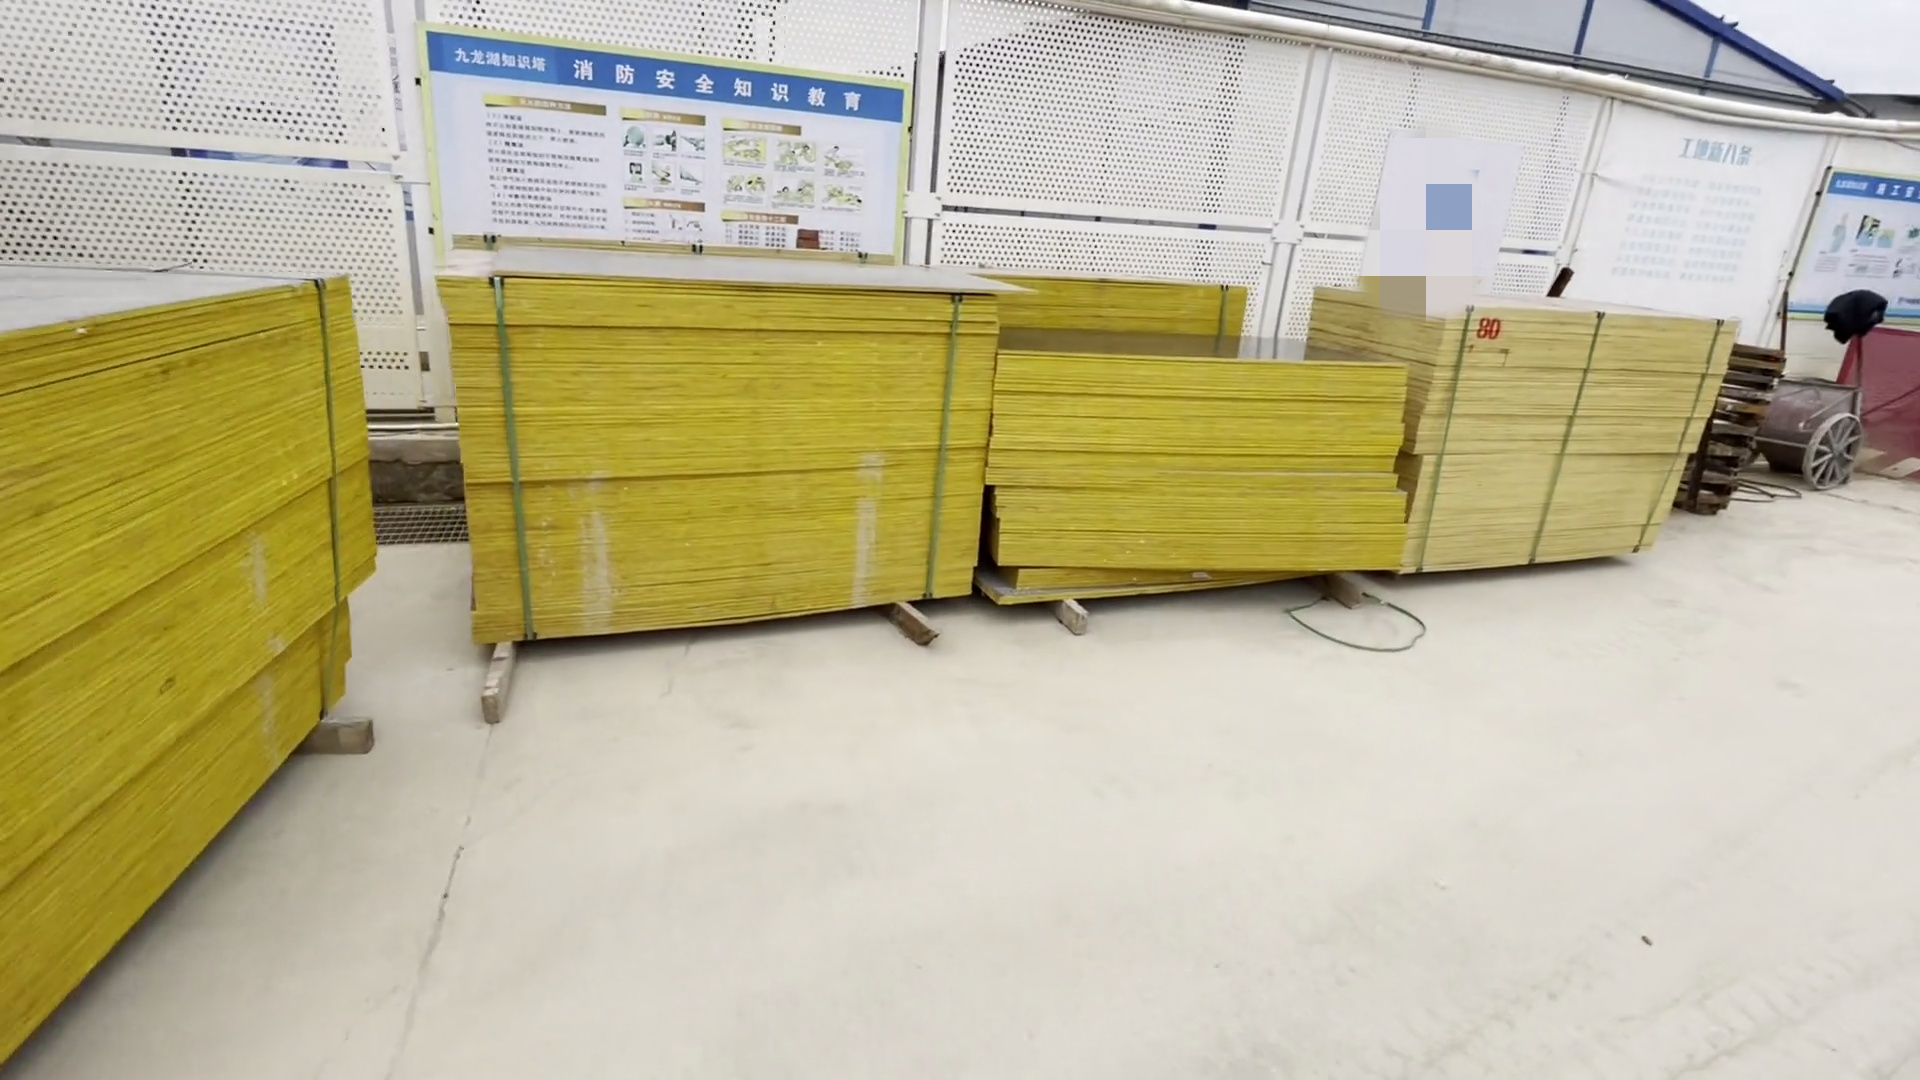board: (430, 251, 1735, 676)
handcart: (1754, 290, 1865, 496)
